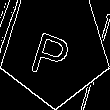P_N: (31, 20, 79, 79)
